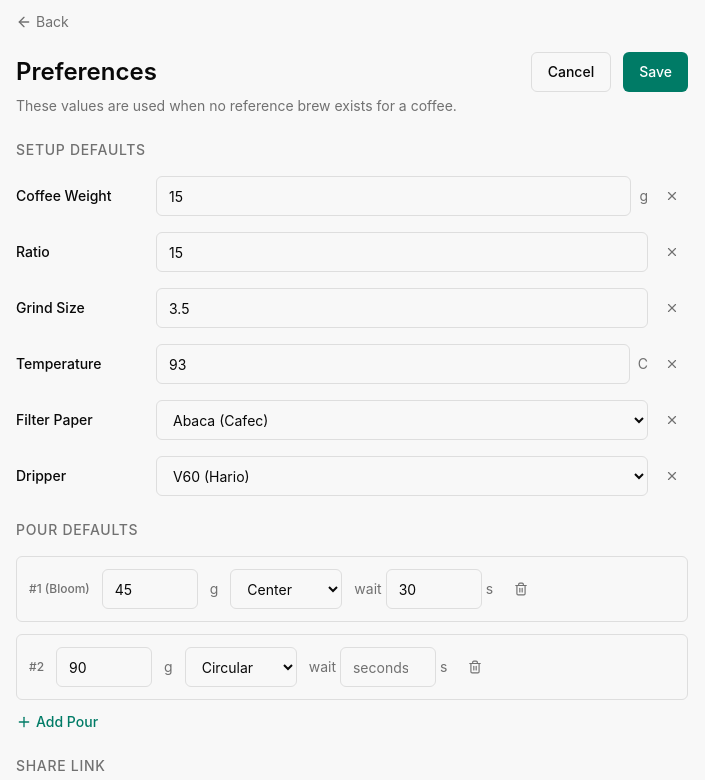
PreferencesPage › clears a setup default field
The image size is (705, 780).
Expected: the number field labelled "Coffee Weight" holds "15", 156,176 -> 631,216
Click the button named "Clear coffee weight".
click(672, 196)  # box 656,180 -> 688,212
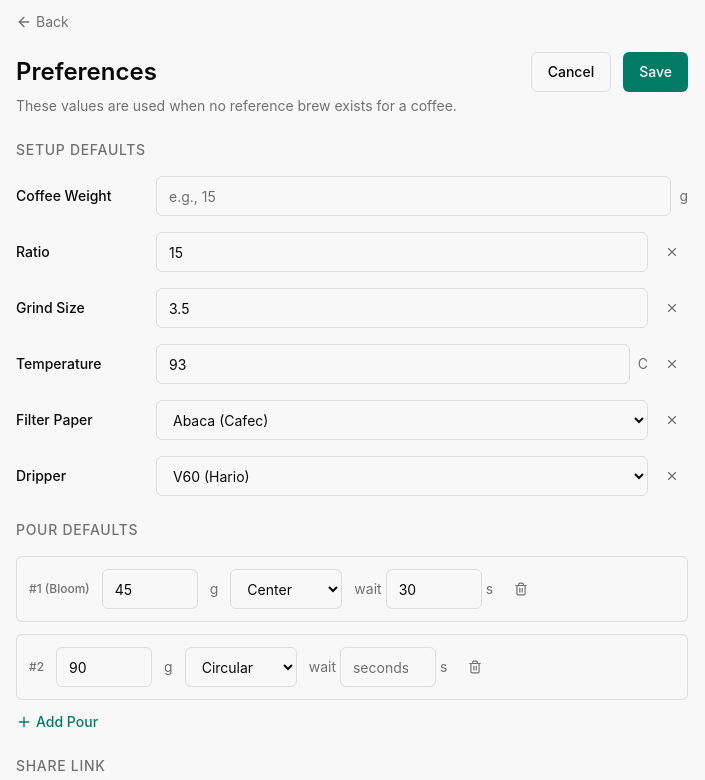
Result: the number field labelled "Coffee Weight" is not empty at 156,176 -> 671,216
